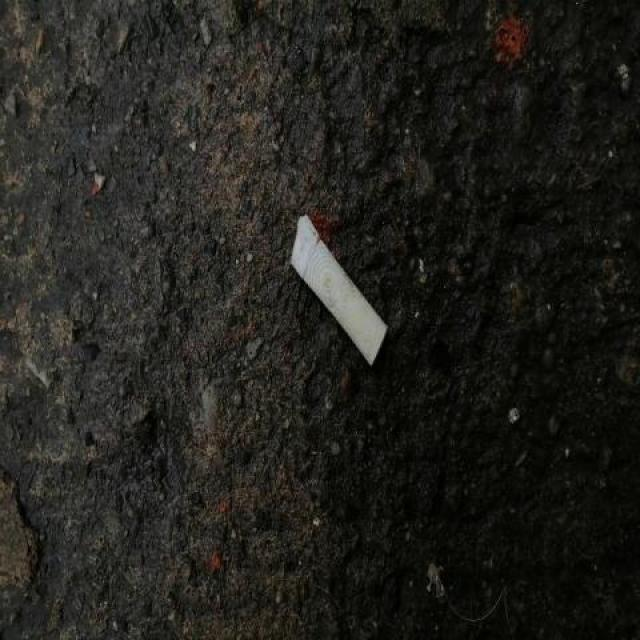non-organic waste: (283, 211, 396, 378)
